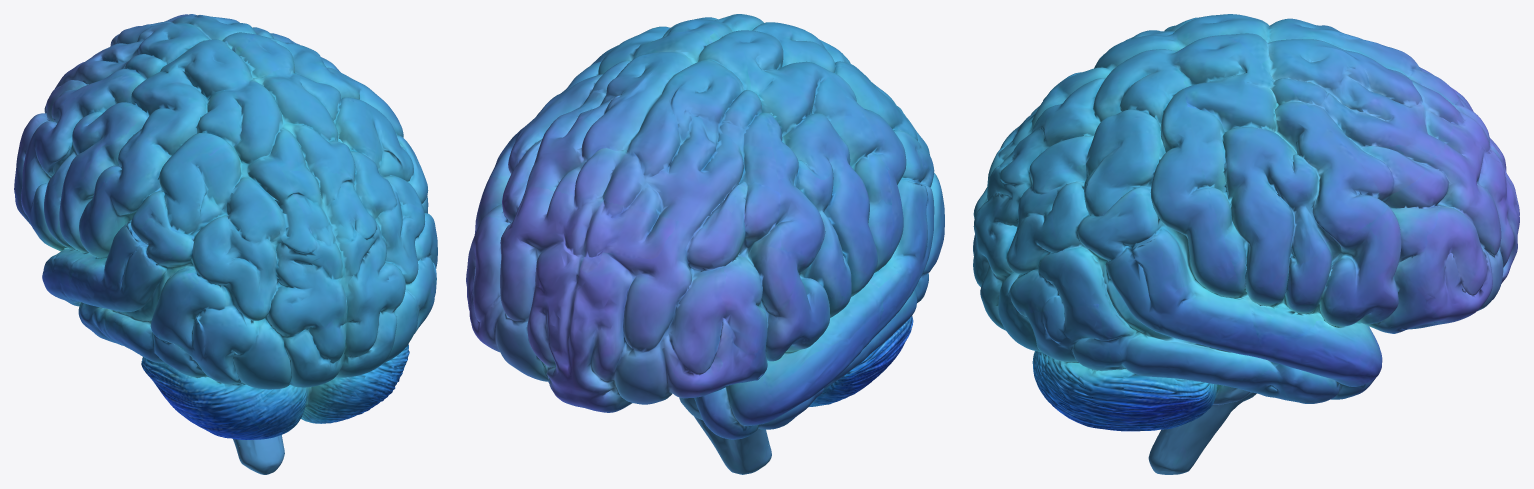
File: brain.glb
The picture shows the model from 3 angles, left to right: view 1: azimuth 30°, elevation 25°; view 2: azimuth 150°, elevation 25°; view 3: azimuth 270°, elevation 25°; orthographic projection. The views are drawn at different scales.
Parts seen in each view (by area): view 1: tripo_node_b0ba85c5-3996-40c4-abaf-a9416cd1720f; view 2: tripo_node_b0ba85c5-3996-40c4-abaf-a9416cd1720f; view 3: tripo_node_b0ba85c5-3996-40c4-abaf-a9416cd1720f.
Part boxes in pixels (x1=…): tripo_node_b0ba85c5-3996-40c4-abaf-a9416cd1720f: x1=14, y1=14, x2=437, y2=474; tripo_node_b0ba85c5-3996-40c4-abaf-a9416cd1720f: x1=466, y1=14, x2=944, y2=474; tripo_node_b0ba85c5-3996-40c4-abaf-a9416cd1720f: x1=973, y1=14, x2=1519, y2=474.
Bounding box in the file's own units: 0.7139 × 0.8795 × 0.98.
Materials: 1 (1 with a texture image).
